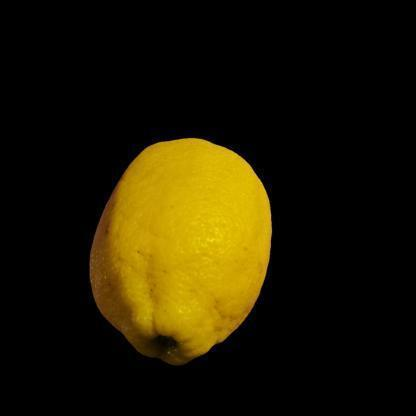lemon: (89, 138, 273, 366)
